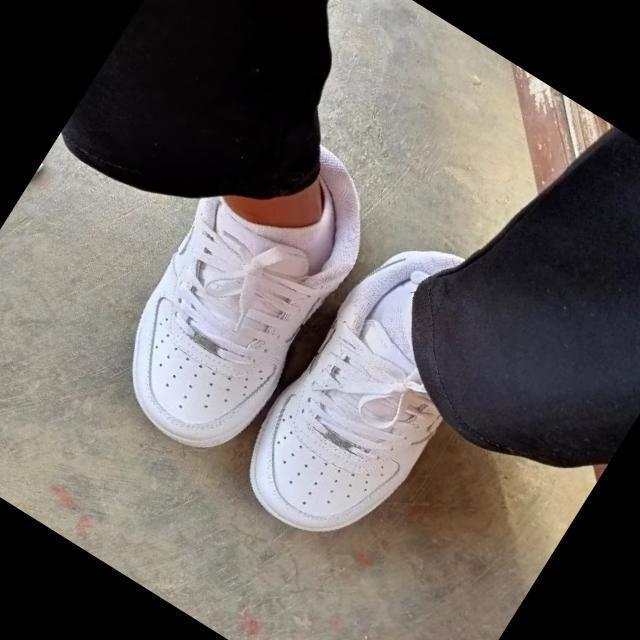nike fake air force: (56, 89, 400, 476), (220, 215, 531, 573)
